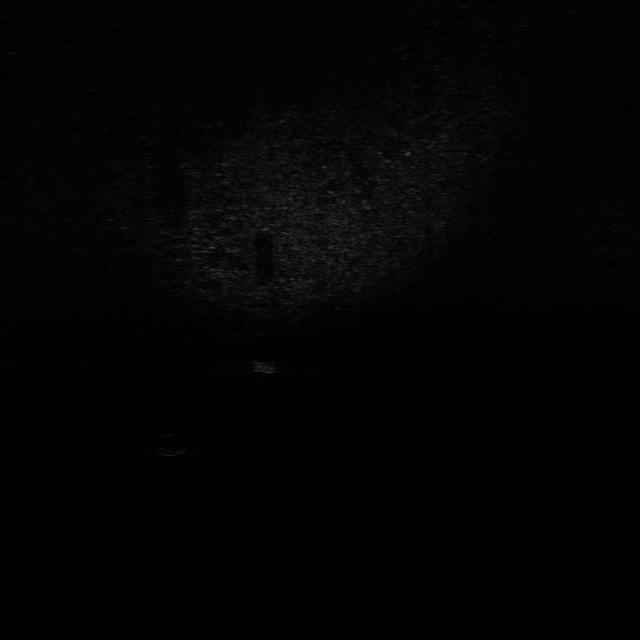ball: (152, 430, 190, 458)
cube: (252, 353, 287, 376)
